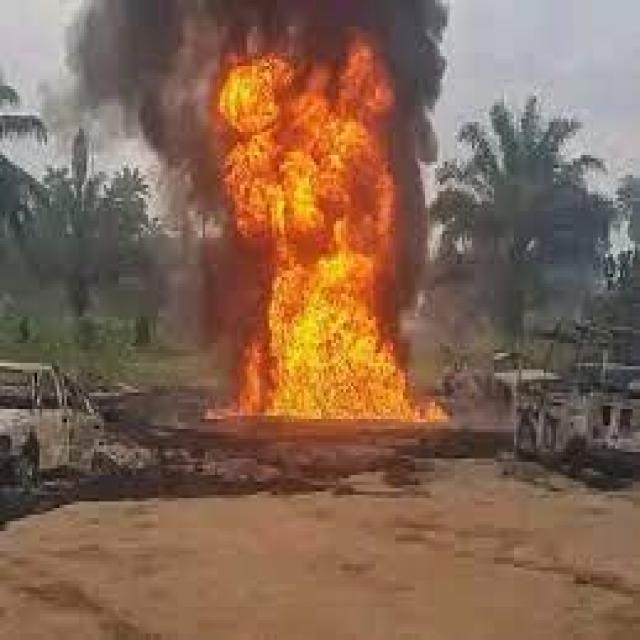fire: (215, 43, 450, 422)
smoke: (42, 3, 215, 211), (398, 3, 455, 310), (200, 3, 452, 43)
